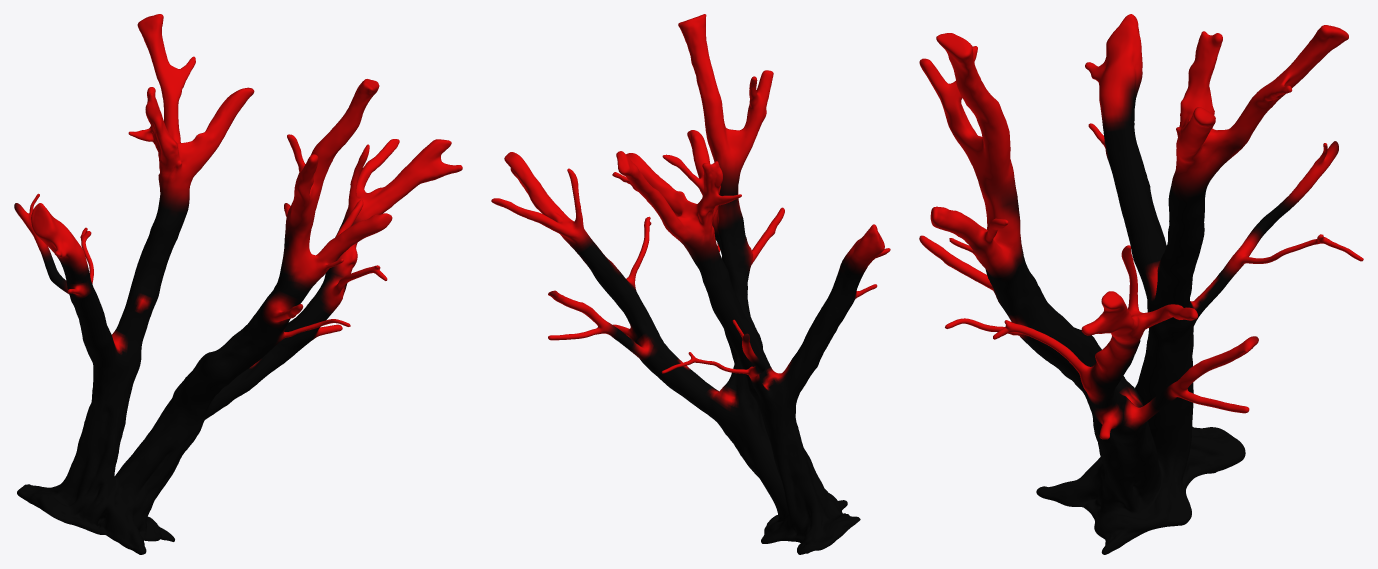
Rendered from jacaranda_tree_trunk.glb.
3 renders of one model, left to right at view 1: azimuth 30°, elevation 25°; view 2: azimuth 150°, elevation 25°; view 3: azimuth 270°, elevation 25°, orthographic. The views are drawn at different scales.
Parts seen in each view (by area): view 1: jacaranda_tree_trunk; view 2: jacaranda_tree_trunk; view 3: jacaranda_tree_trunk.
Part boxes in pixels (left/top/right/bottom): jacaranda_tree_trunk: left=14, top=14, right=462, bottom=554; jacaranda_tree_trunk: left=491, top=14, right=890, bottom=554; jacaranda_tree_trunk: left=919, top=14, right=1363, bottom=554.
Size of the model in its own units: 3.86 by 4.21 by 2.8.
